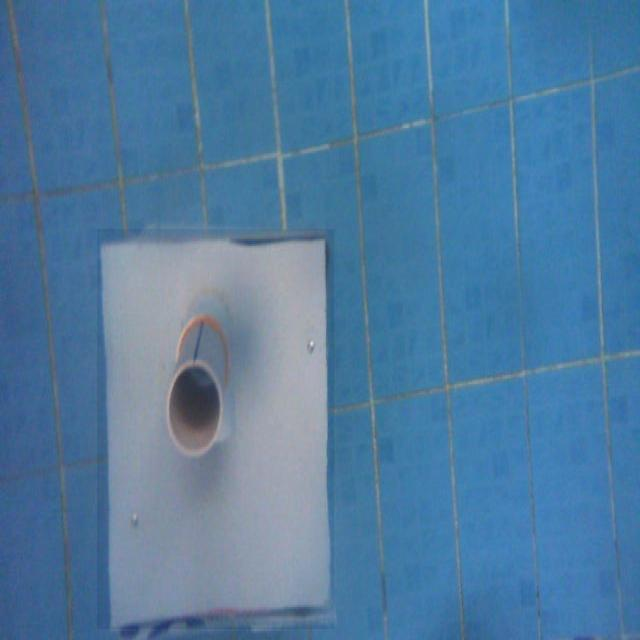Cube: (97, 230, 334, 630)
